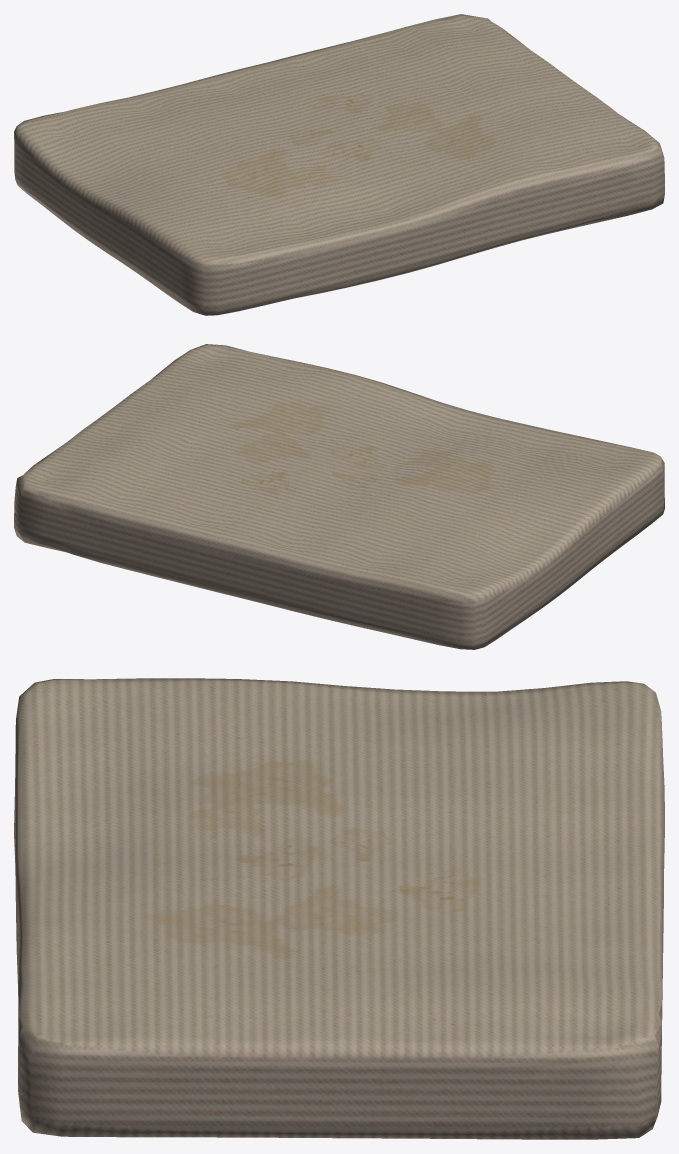
File: Bed - Stained.glb
The picture shows the model from 3 angles, top to bottom: view 1: azimuth 30°, elevation 25°; view 2: azimuth 150°, elevation 25°; view 3: azimuth 270°, elevation 25°; orthographic projection. The views are drawn at different scales.
Parts seen in each view (by area): view 1: Stained Bed; view 2: Stained Bed; view 3: Stained Bed.
Part boxes in pixels (<box>): Stained Bed: <box>14,14,664,315</box>; Stained Bed: <box>14,344,664,649</box>; Stained Bed: <box>14,678,664,1139</box>.
Size of the model in its own units: 2.07 by 0.2823 by 1.51.
Materials: 2 (2 with a texture image).
